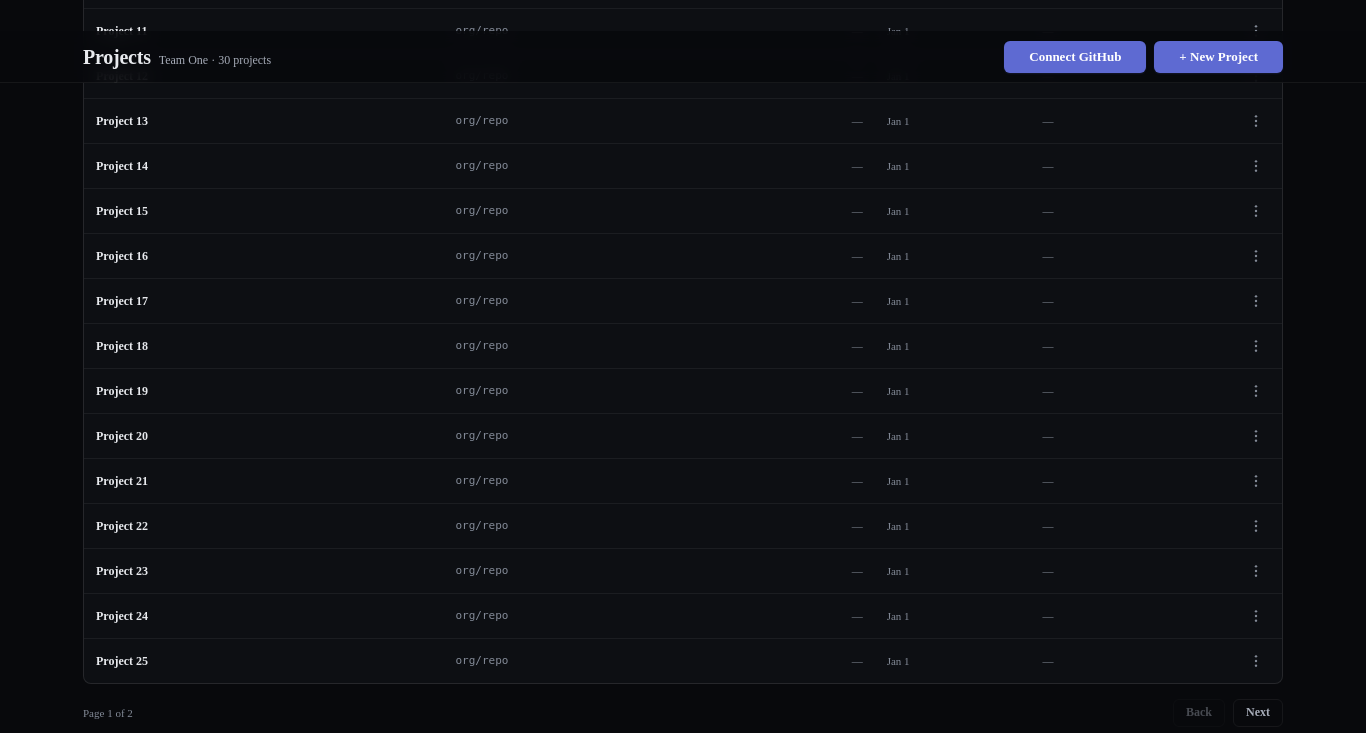
/projects pagination reset › a changed search goes back to page 1 while the list still spans two pages
The image size is (1366, 733).
(page scrolled)
Click the button "Next". click: (1258, 713)
box: [1233,699,1283,727]
(page scrolled)
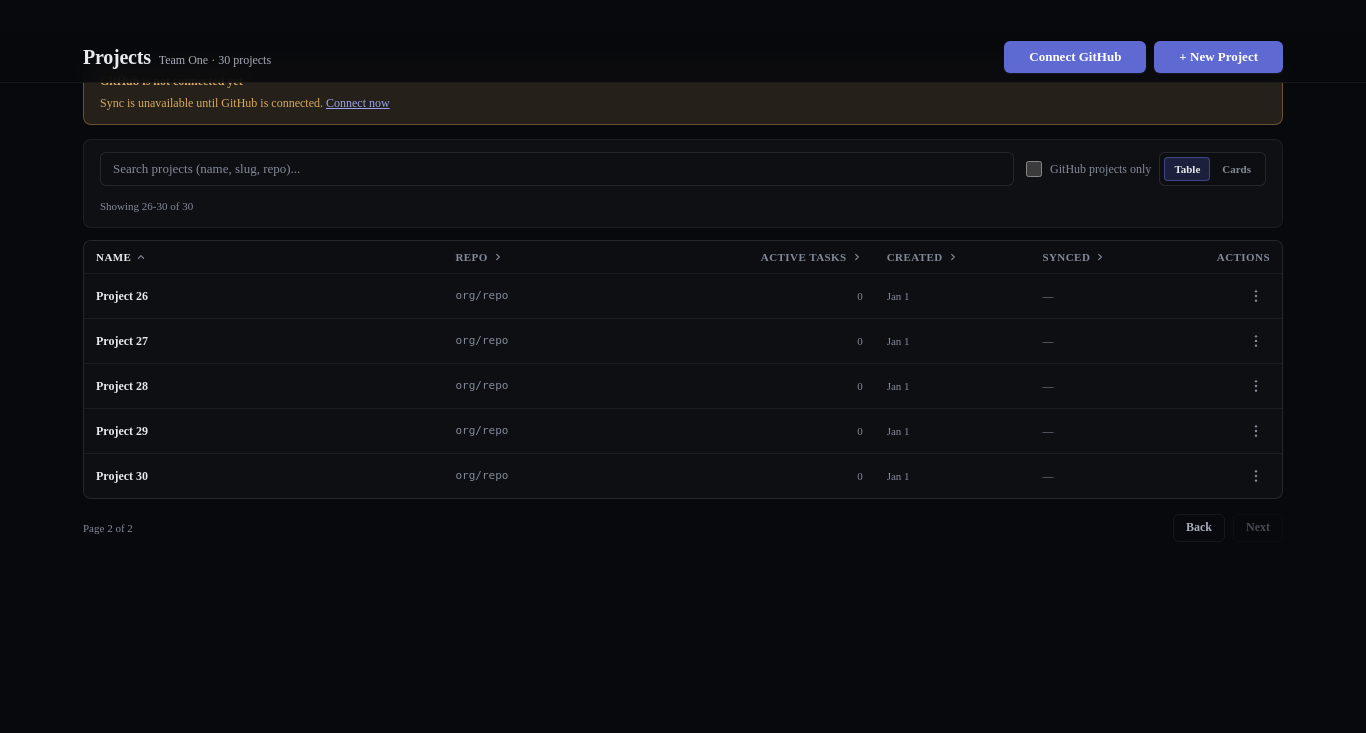
Now the text "Showing 26-30 of 30" is shown, box [100,200,193,212]
Type "project" into the search field labelled "Search projects". click: (557, 169)
box: [100,152,1014,186]
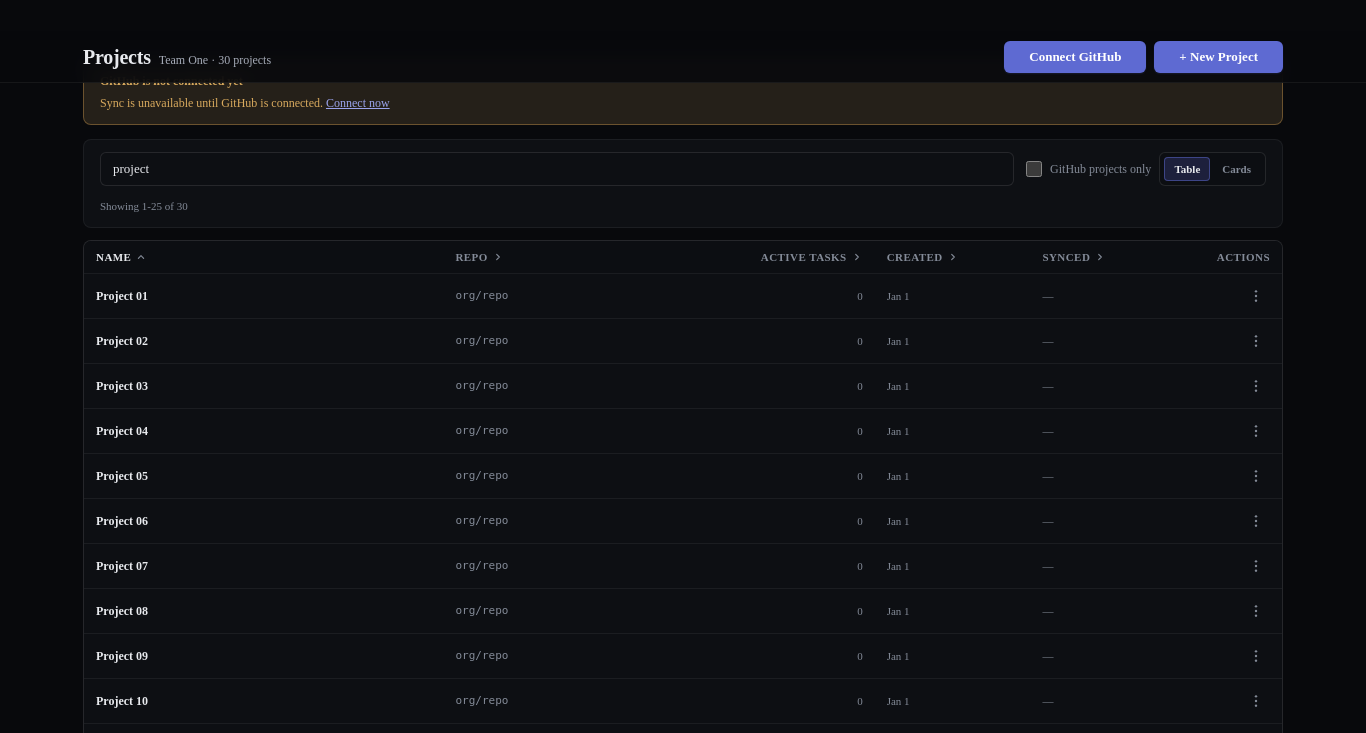
Now the text "Showing 1-25 of 30" is shown, box [100,200,188,212]
